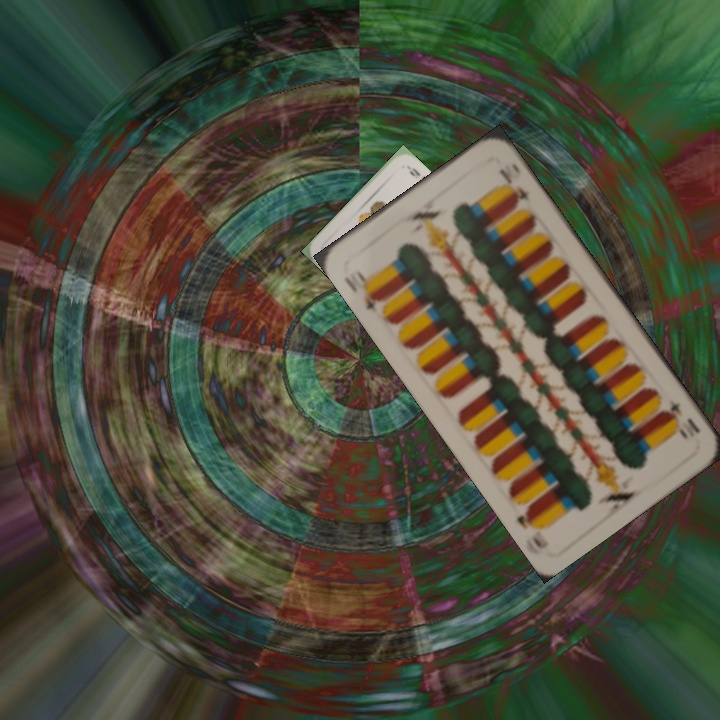E10: (339, 265, 386, 315), (659, 395, 691, 442)
